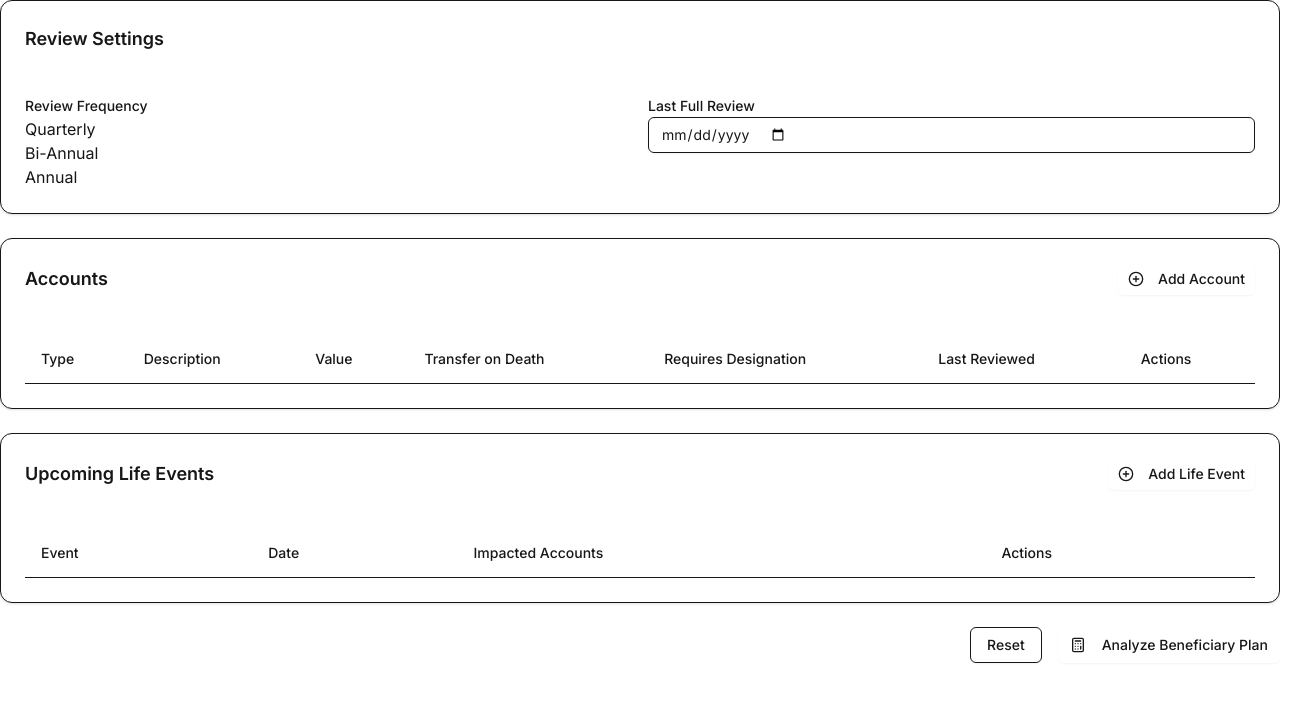
Test: BeneficiaryPlanningTool › validates required fields before calculation
The width and height of the screenshot is (1292, 720).
# Try to calculate without any inputs
What coordinates should you click on to do the following:
click the button "Analyze Beneficiary Plan"
I would click on:
 (1169, 645)
Its box is [1058,627,1280,663].
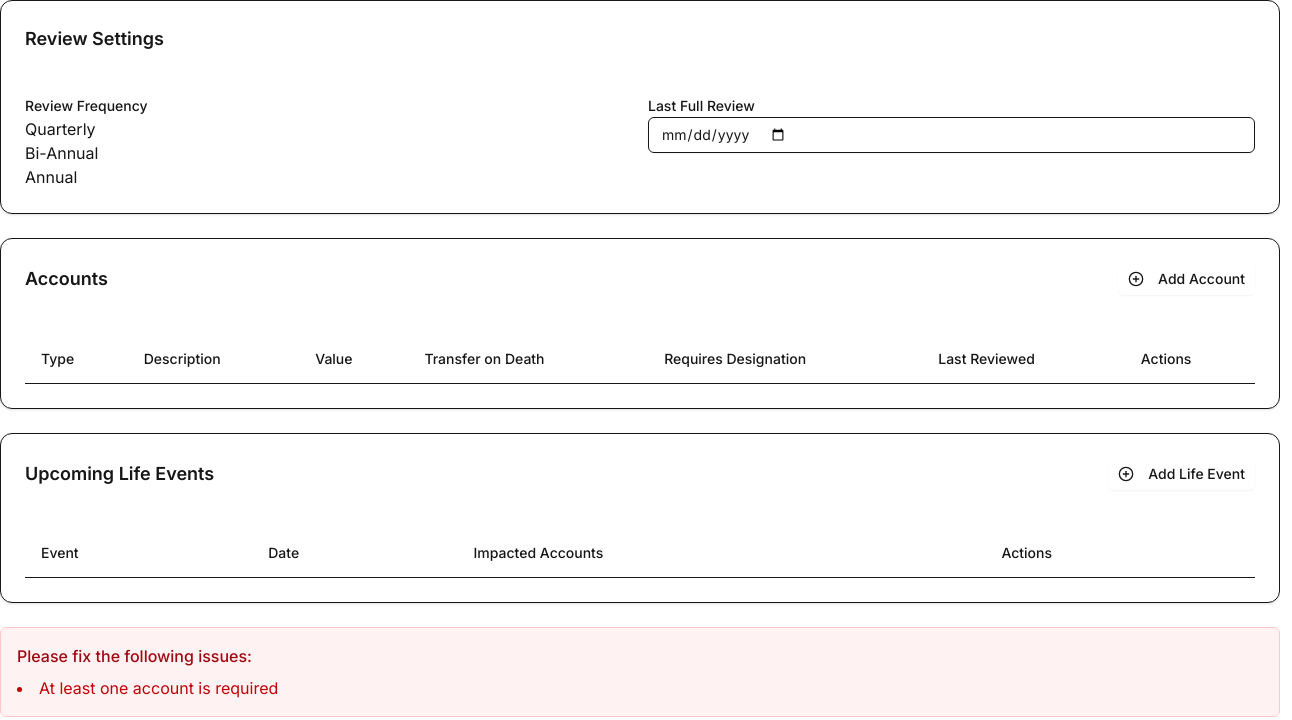
Result: the list item "At least one account is required" is shown at [39,678,278,698]
